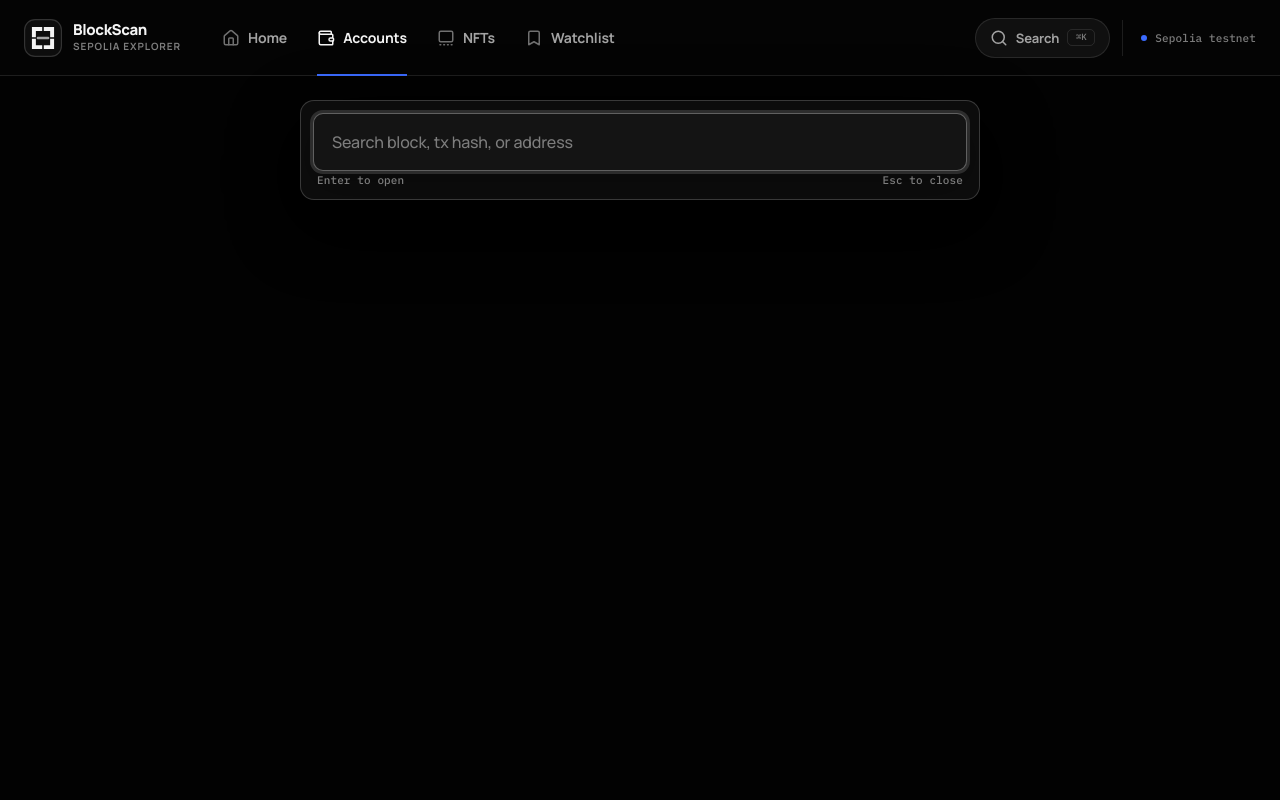
Test: dismisses from the backdrop and opens from the legacy focus event
Expected: the dialog is shown, x1=300 y1=100 x2=980 y2=200
Press the mouse on the element with test id "global-search-backdrop" at (640, 438), box x1=0 y1=76 x2=1279 y2=799
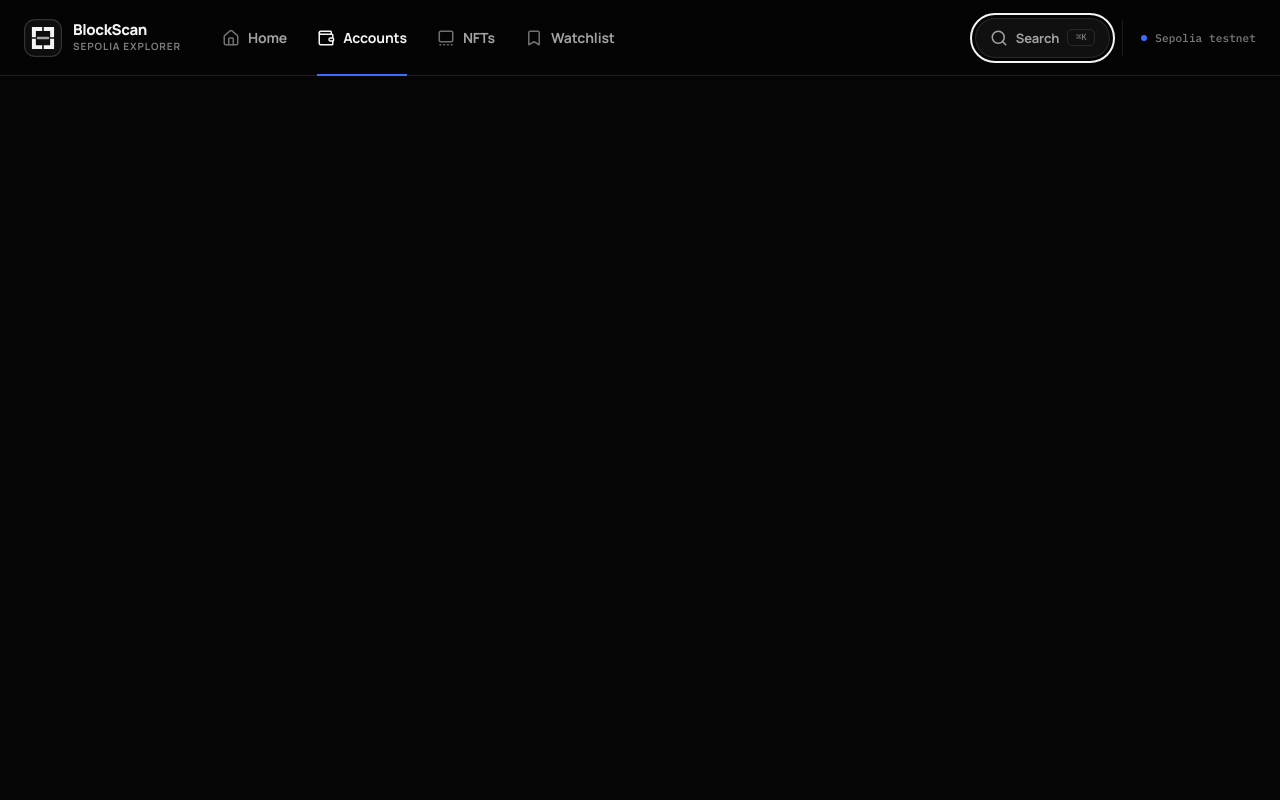
Result: the dialog is gone
